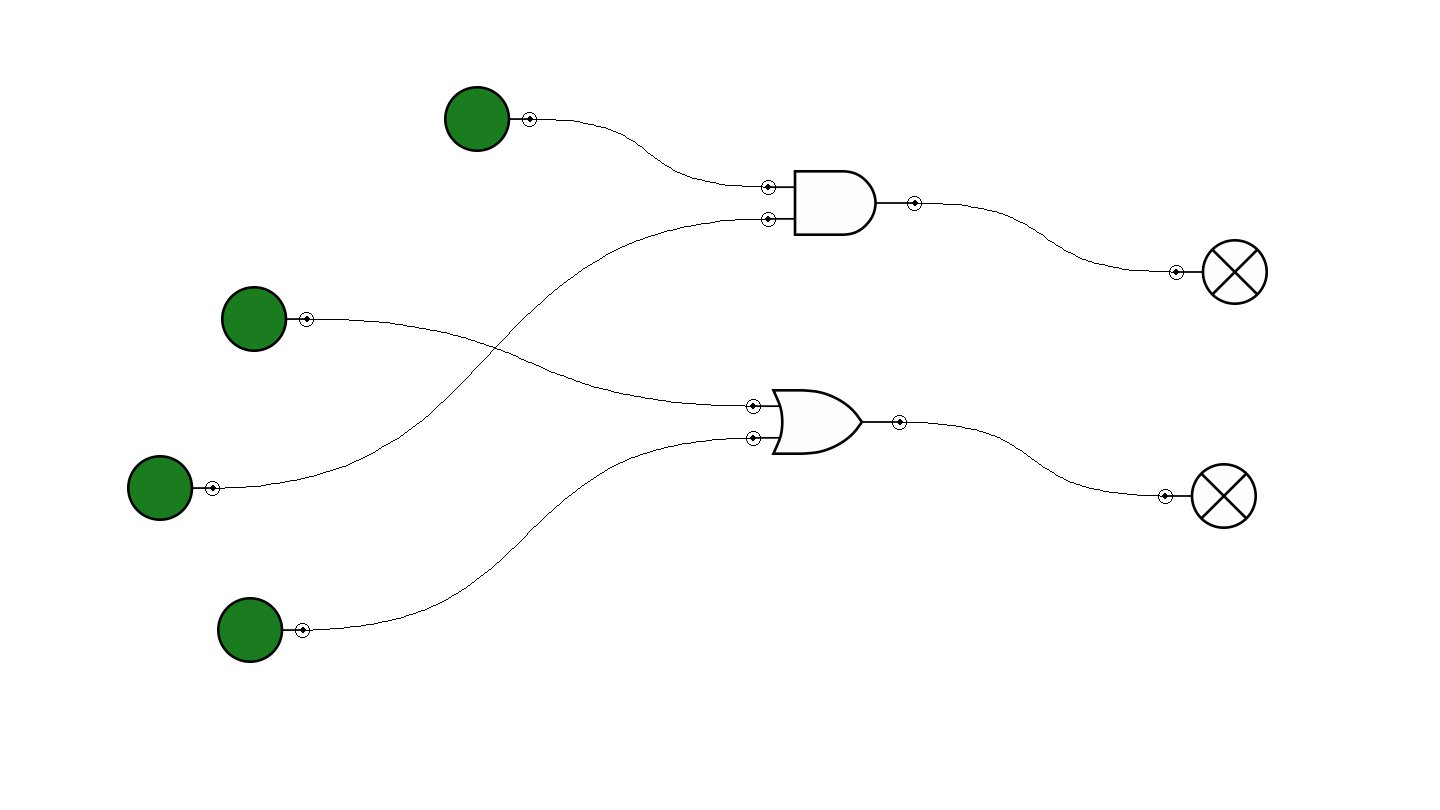and: (761, 170, 922, 236)
bulb: (1169, 239, 1268, 305), (1158, 463, 1257, 529)
or: (746, 389, 907, 455)
switch_True: (221, 286, 314, 352), (217, 597, 310, 663), (127, 455, 220, 521), (444, 86, 537, 152)
